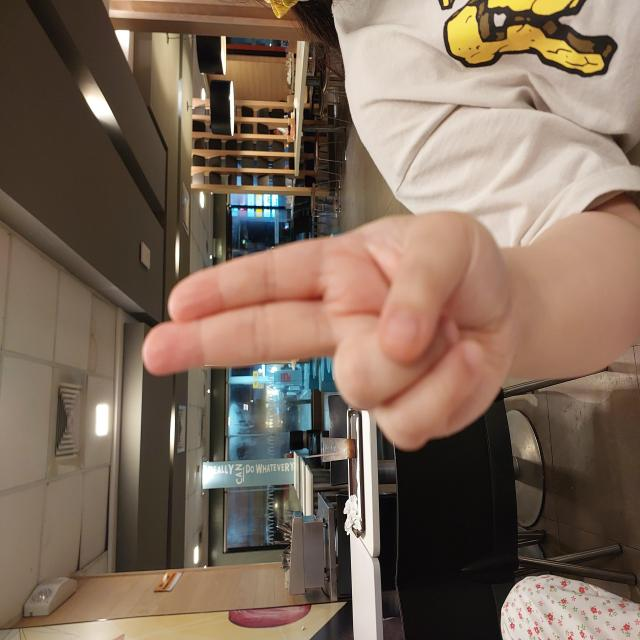U: (187, 140, 433, 513)
